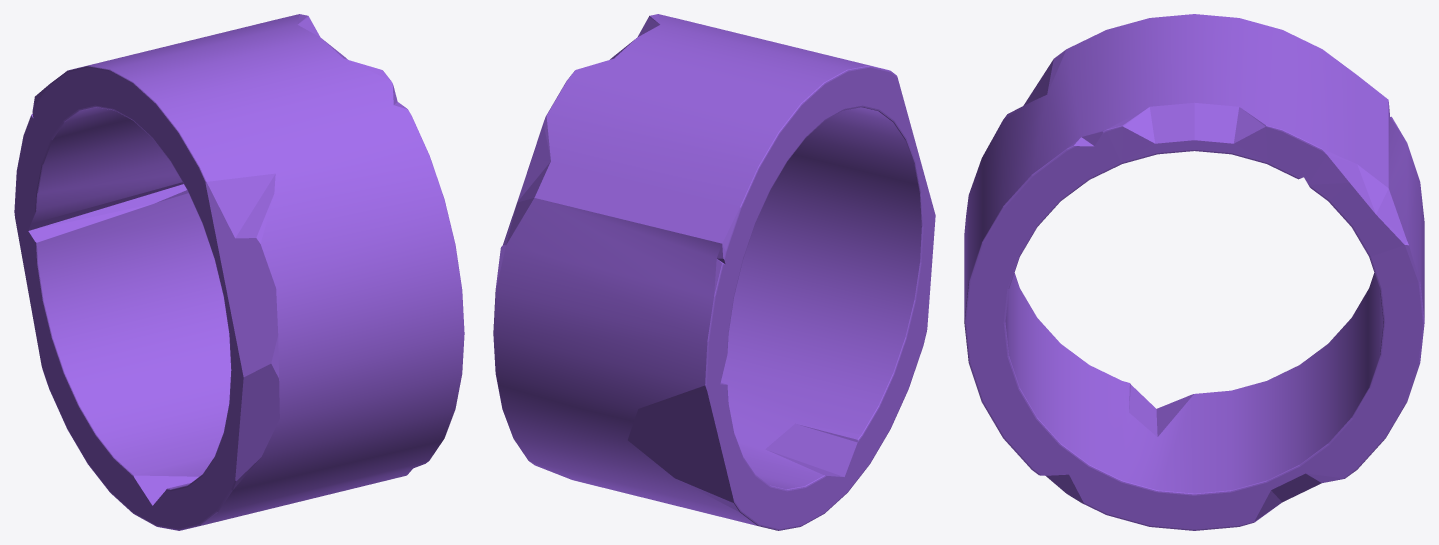
Rendered from kolko.fbx.
3 renders of one model, left to right at view 1: azimuth 30°, elevation 25°; view 2: azimuth 150°, elevation 25°; view 3: azimuth 270°, elevation 25°, orthographic. The views are drawn at different scales.
Visible parts, largest first — view 1: kolko; view 2: kolko; view 3: kolko.
Boxes of the visible parts, x1=… form: kolko: x1=14, y1=14, x2=464, y2=530; kolko: x1=493, y1=14, x2=935, y2=530; kolko: x1=964, y1=14, x2=1424, y2=530.
Size of the model in its own units: 79.96 by 154 by 154.
